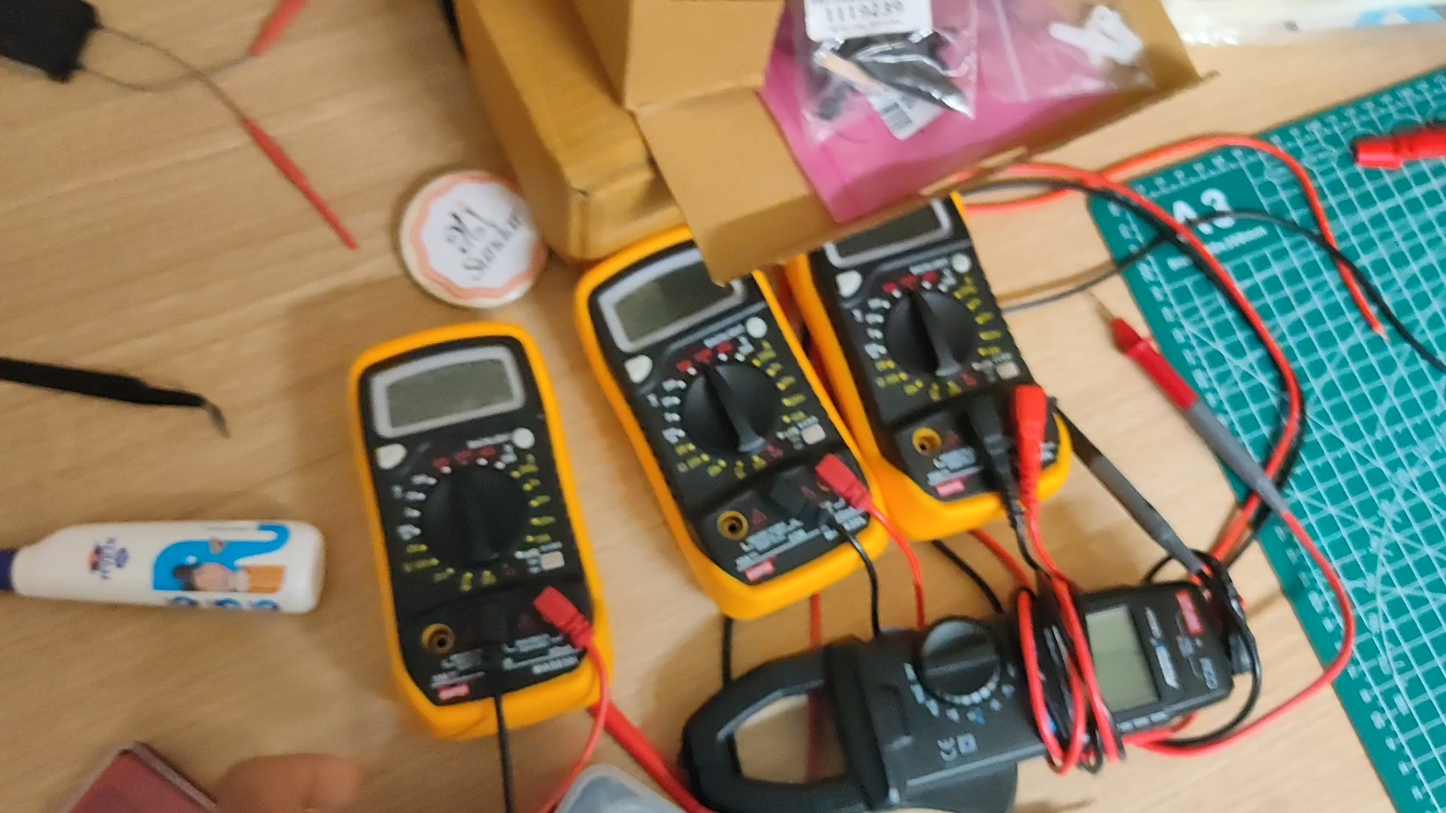multimeter: (340, 359, 591, 728)
